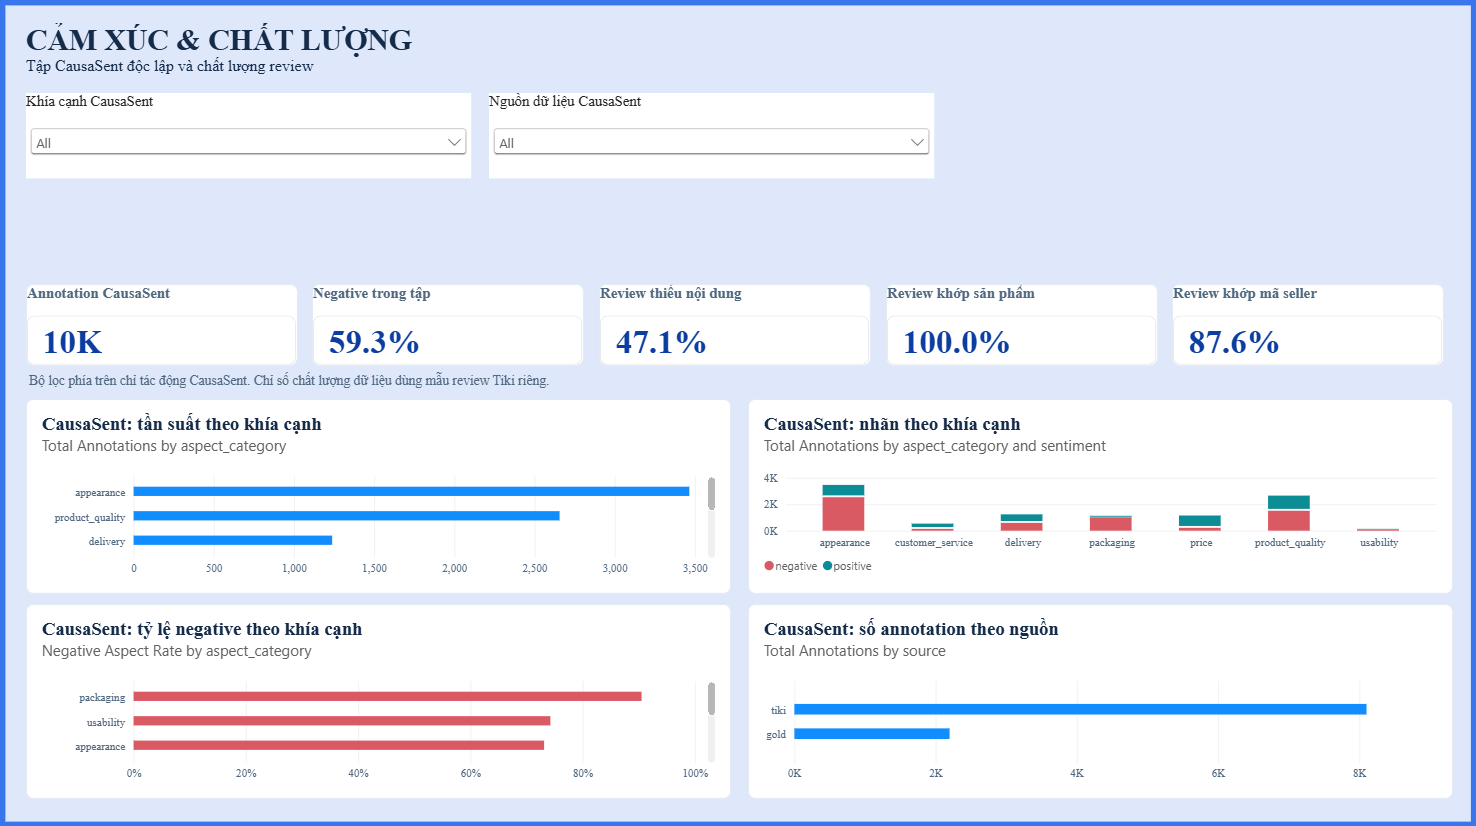

What the dashboard file says about the page in this screenshot:
{"tool":"powerbi","page":{"name":"Cảm xúc & chất lượng","canvas":[1600,900],"ordinal":5},"visuals":[{"type":"shape","box":[2,2,1596,896],"z":0},{"type":"cardVisual","title":"Annotation CausaSent","fields":{"Data":["KPI_Measures.Total Annotations"]},"box":[32,310,292.6,88],"z":1000},{"type":"cardVisual","title":"Negative trong tập","fields":{"Data":["KPI_Measures.Negative Aspect Rate"]},"box":[341,310,292.6,88],"z":2000},{"type":"cardVisual","title":"Review thiếu nội dung","fields":{"Data":["KPI_Measures.Missing Content Rate"]},"box":[650,310,292.6,88],"z":3000},{"type":"cardVisual","title":"Review khớp sản phẩm","fields":{"Data":["KPI_Measures.Product Match Rate"]},"box":[959.1,310,292.6,88],"z":4000},{"type":"cardVisual","title":"Review khớp mã seller","fields":{"Data":["KPI_Measures.Seller Linkage Rate"]},"box":[1268.1,310,292.6,88],"z":5000},{"type":"clusteredBarChart","title":"CausaSent: tần suất theo khía cạnh","fields":{"Category":["Fact_CausaSentAnnotations.aspect_category"],"Y":["KPI_Measures.Total Annotations"]},"box":[32,435,760.2,210],"z":10000},{"type":"columnChart","title":"CausaSent: nhãn theo khía cạnh","fields":{"Category":["Fact_CausaSentAnnotations.aspect_category"],"Series":["Fact_CausaSentAnnotations.sentiment"],"Y":["KPI_Measures.Total Annotations"]},"box":[811,435,760.2,210],"z":11000},{"type":"clusteredBarChart","title":"CausaSent: tỷ lệ negative theo khía cạnh","fields":{"Category":["Fact_CausaSentAnnotations.aspect_category"],"Y":["KPI_Measures.Negative Aspect Rate"]},"box":[32,655,760.2,210],"z":12000},{"type":"clusteredBarChart","title":"CausaSent: số annotation theo nguồn","fields":{"Category":["Fact_CausaSentAnnotations.source"],"Y":["KPI_Measures.Total Annotations"]},"box":[811,655,760.2,210],"z":13000},{"type":"textbox","box":[32,29,1509.9,84],"z":99000},{"type":"textbox","box":[35.5,404,1515.8,26],"z":100000},{"type":"slicer","title":"Khía cạnh CausaSent","fields":{"Values":["Fact_CausaSentAnnotations.aspect_category"]},"box":[32,105,480,92],"z":200000},{"type":"slicer","title":"Nguồn dữ liệu CausaSent","fields":{"Values":["Fact_CausaSentAnnotations.source"]},"box":[532,105,480,92],"z":200001}]}

Visuals, with their boxes in screenshot pixels (x1, y1, x2, y2), scaled from the page's 1600x900 canvas onto the 1476x826 screenshot:
shape: <box>2,2,1474,824</box>
"Annotation CausaSent" cardVisual: <box>30,285,299,365</box>
"Negative trong tập" cardVisual: <box>315,285,584,365</box>
"Review thiếu nội dung" cardVisual: <box>600,285,870,365</box>
"Review khớp sản phẩm" cardVisual: <box>885,285,1155,365</box>
"Review khớp mã seller" cardVisual: <box>1170,285,1440,365</box>
"CausaSent: tần suất theo khía cạnh" clusteredBarChart: <box>30,399,731,592</box>
"CausaSent: nhãn theo khía cạnh" columnChart: <box>748,399,1449,592</box>
"CausaSent: tỷ lệ negative theo khía cạnh" clusteredBarChart: <box>30,601,731,794</box>
"CausaSent: số annotation theo nguồn" clusteredBarChart: <box>748,601,1449,794</box>
textbox: <box>30,27,1422,104</box>
textbox: <box>33,371,1431,395</box>
"Khía cạnh CausaSent" slicer: <box>30,96,472,181</box>
"Nguồn dữ liệu CausaSent" slicer: <box>491,96,934,181</box>
